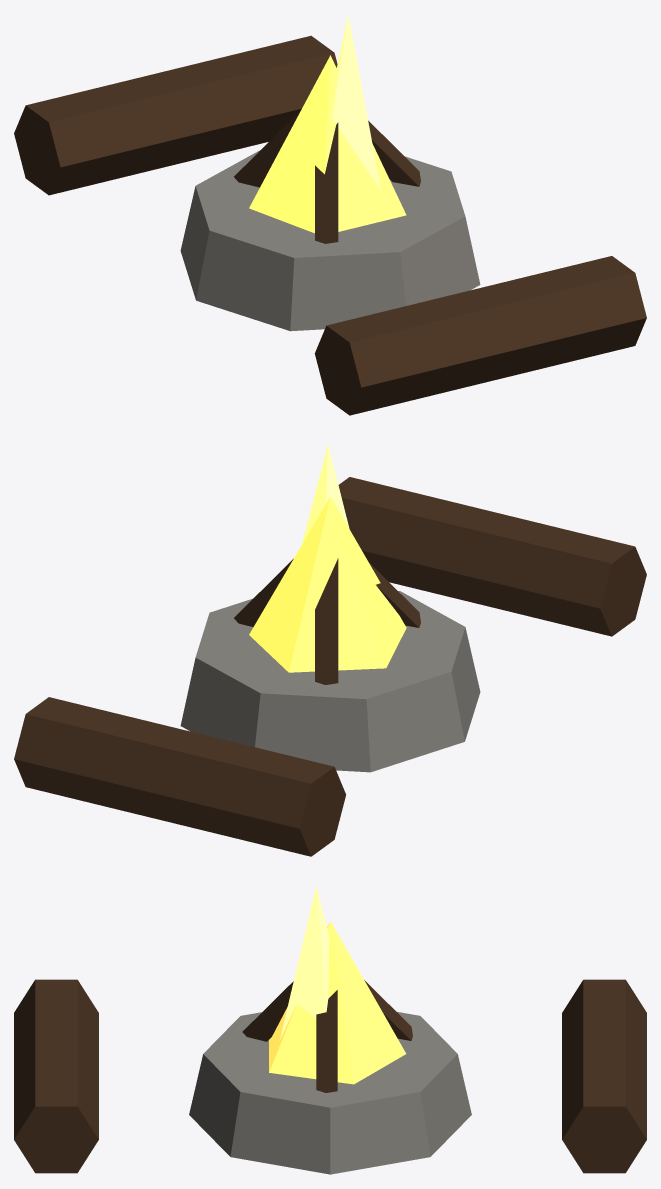
File: fire-pit.glb
The picture shows the model from 3 angles, top to bottom: view 1: azimuth 30°, elevation 25°; view 2: azimuth 150°, elevation 25°; view 3: azimuth 270°, elevation 25°; orthographic projection. The views are drawn at different scales.
Parts seen in each view (by area): view 1: fire-pit; view 2: fire-pit; view 3: fire-pit.
Boxes of the visible parts, x1,y1,x2,y2 form: fire-pit: (14, 15, 646, 415); fire-pit: (14, 444, 646, 856); fire-pit: (14, 886, 646, 1174).
Size of the model in its own units: 1.7 by 1.46 by 3.58.
